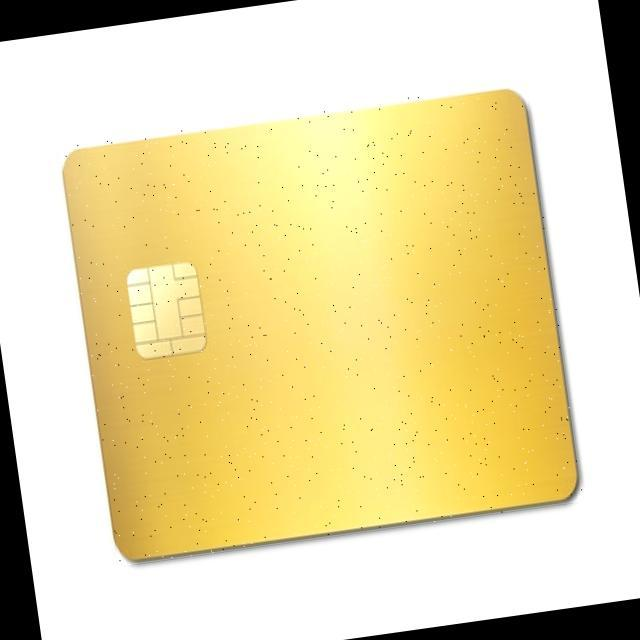payment_card: (61, 87, 580, 562)
